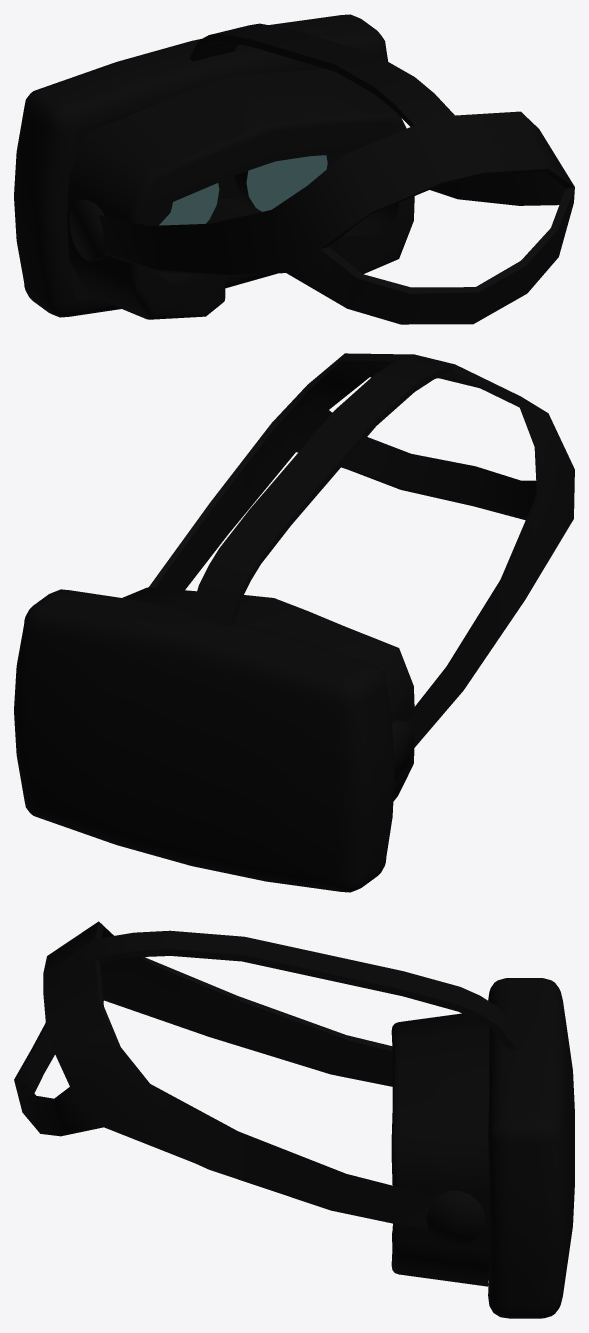
The model's file is VR_Glasses_FBX.FBX.
The picture shows the model from 3 angles, top to bottom: view 1: azimuth 30°, elevation 25°; view 2: azimuth 150°, elevation 25°; view 3: azimuth 270°, elevation 25°; orthographic projection. The views are drawn at different scales.
Parts seen in each view (by area): view 1: VR_Screen; view 2: VR_Screen; view 3: VR_Screen.
Part boxes in pixels (bbox=[...]): VR_Screen: bbox=[14, 14, 574, 324]; VR_Screen: bbox=[14, 353, 574, 892]; VR_Screen: bbox=[14, 921, 574, 1318].
Size of the model in its own units: 0.263 by 0.2392 by 0.3832.
